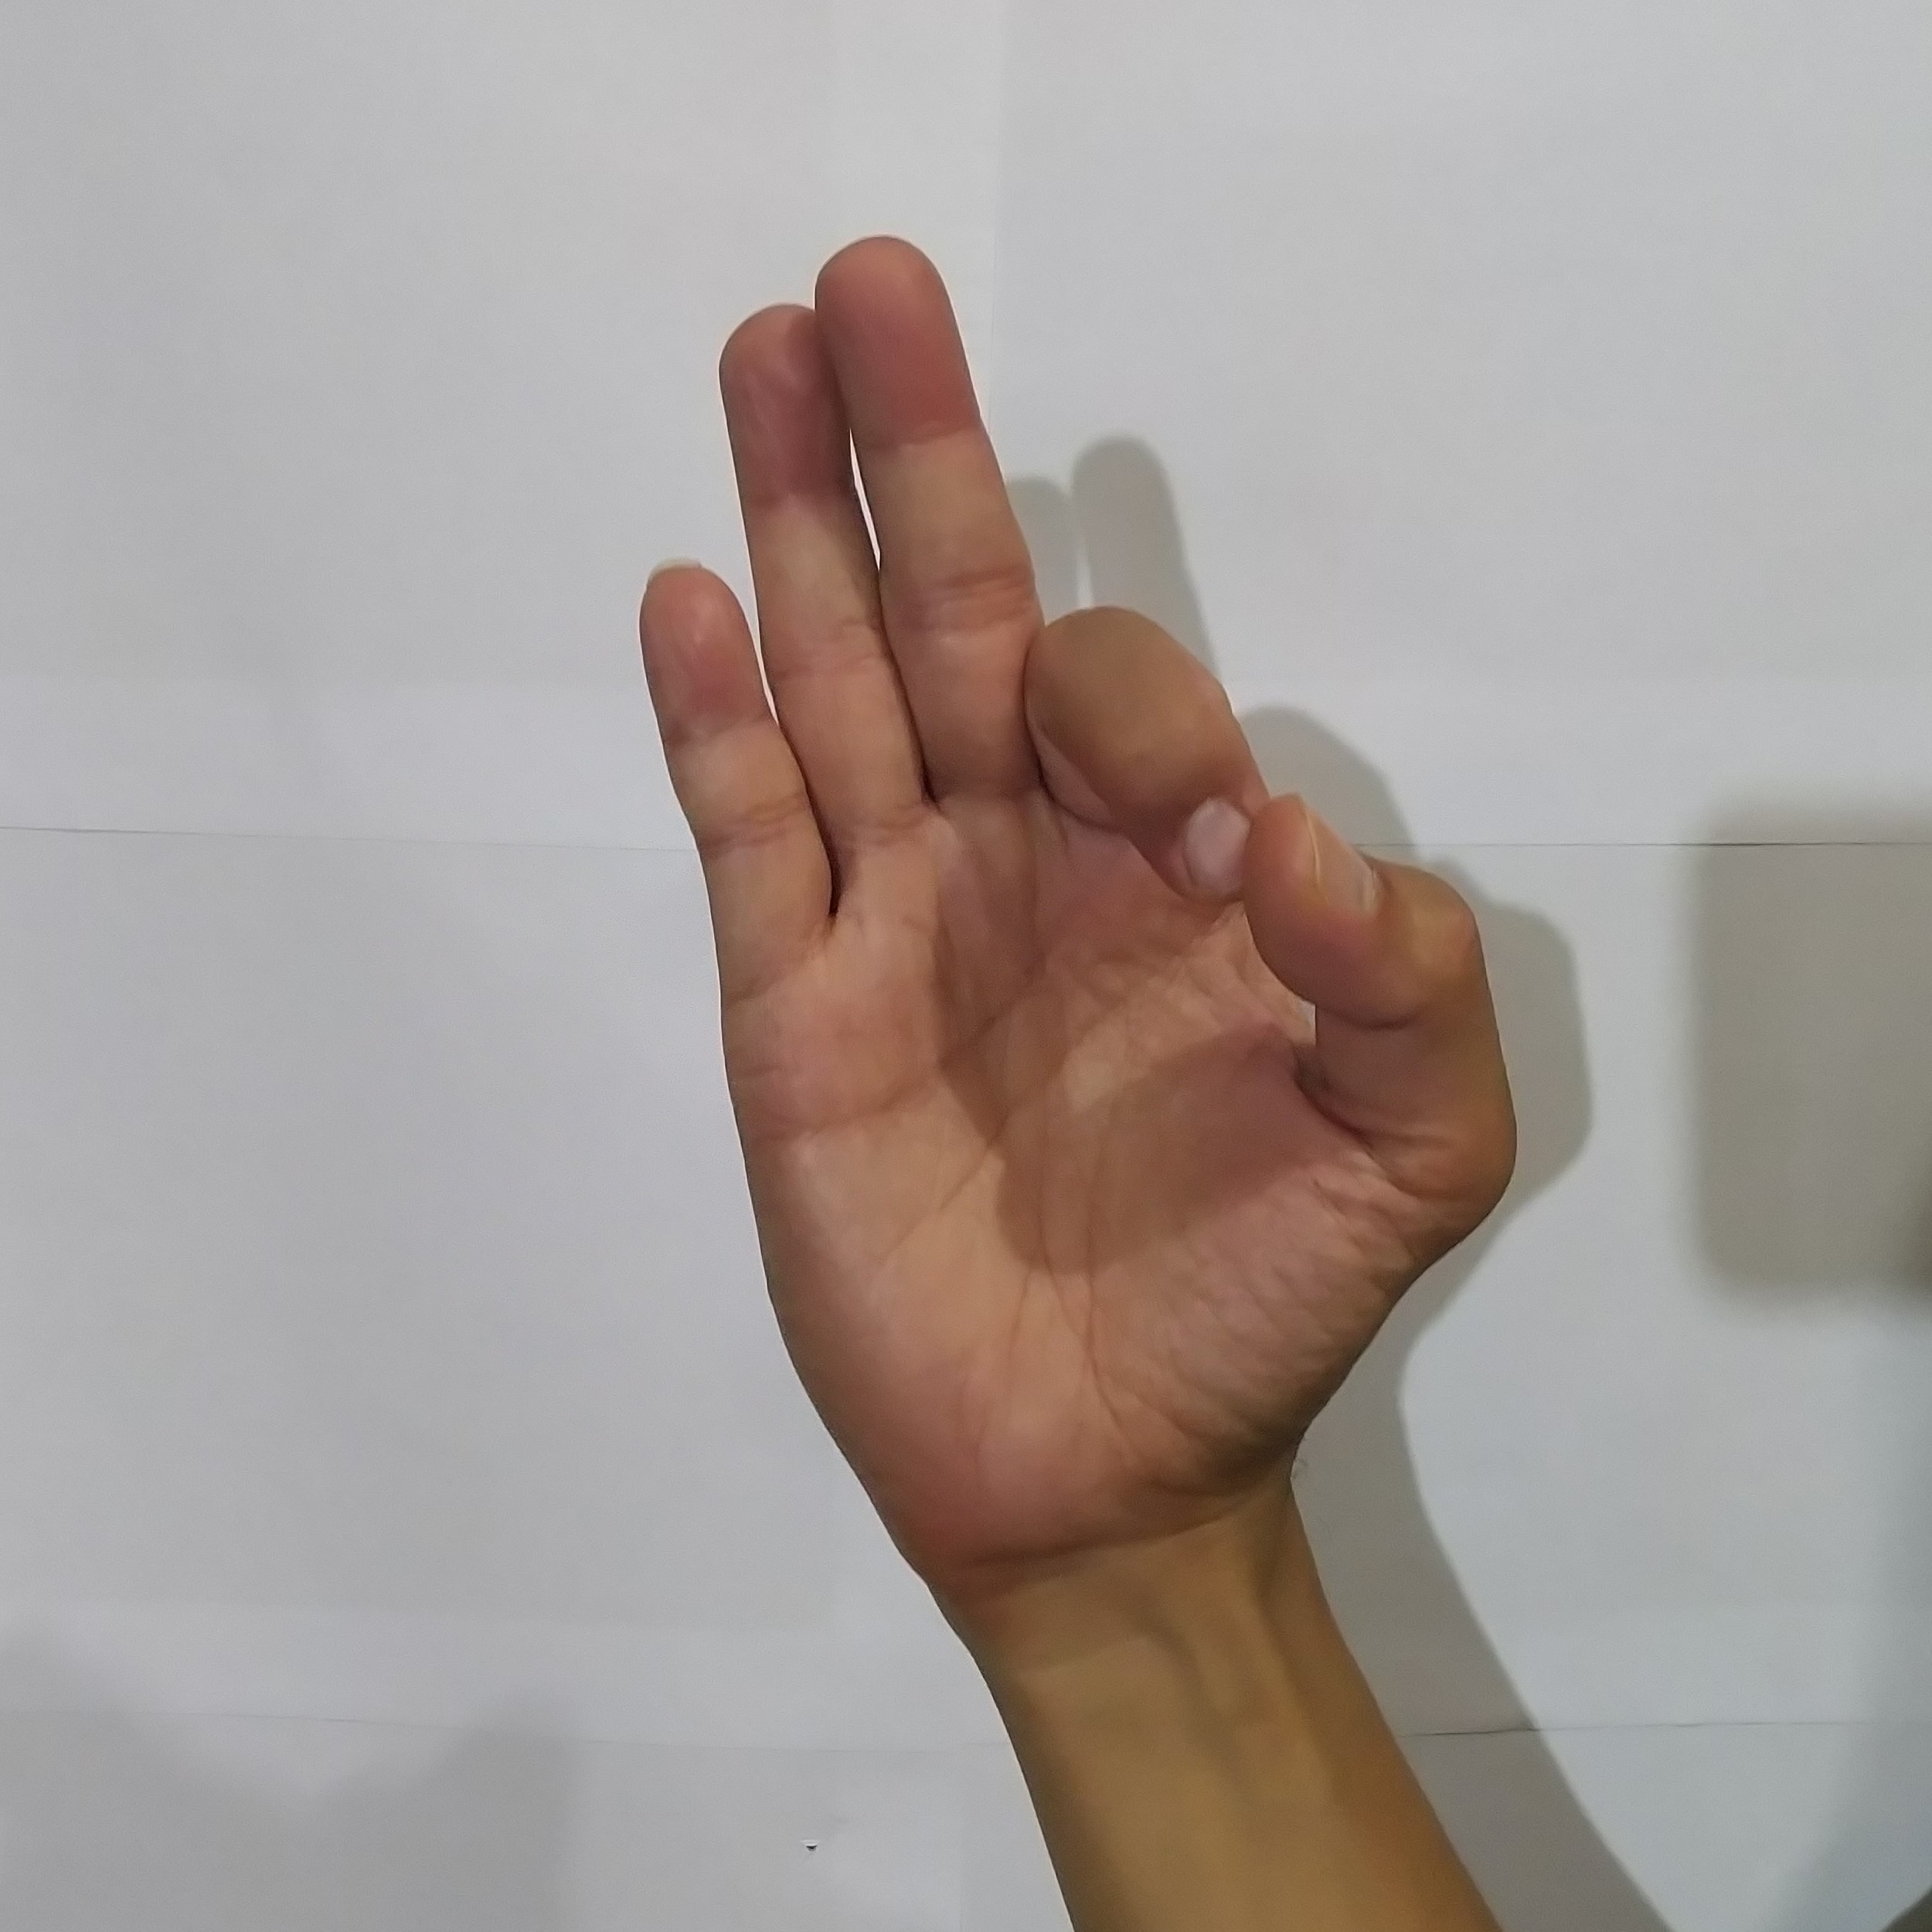F: (621, 219, 1541, 1484)
